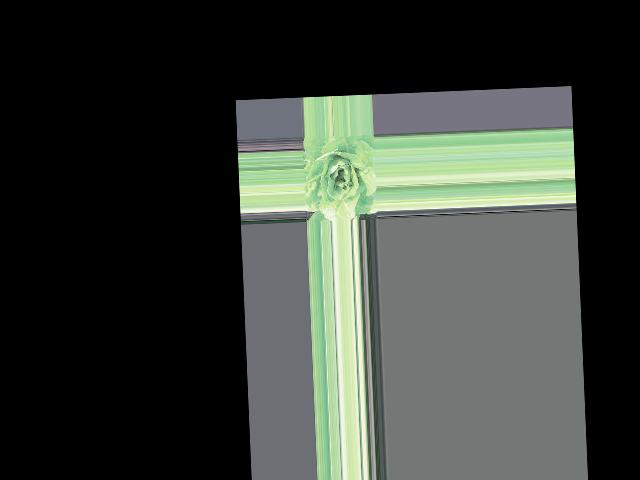lettuce: (301, 135, 375, 218)
